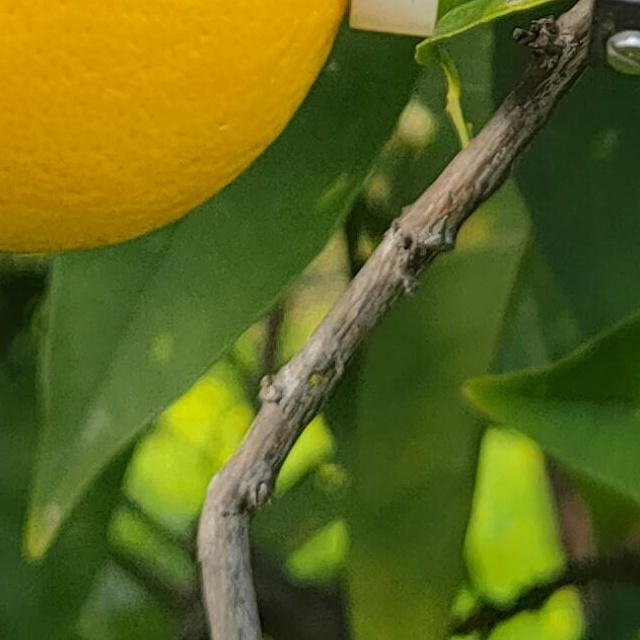orange: (0, 0, 383, 269)
